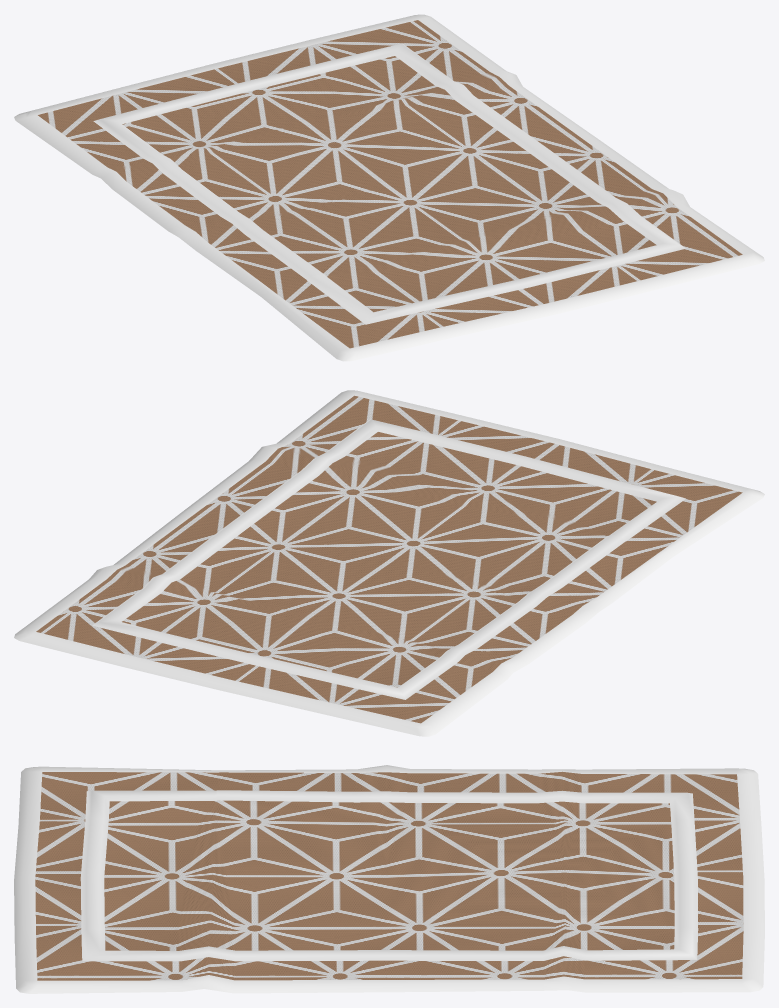
File: carpet_002.fbx
3 views of the same model, one above another, from view 1: azimuth 30°, elevation 25°; view 2: azimuth 150°, elevation 25°; view 3: azimuth 270°, elevation 25° (orthographic). The views are drawn at different scales.
Parts seen in each view (by area): view 1: carpet_002; view 2: carpet_002; view 3: carpet_002.
Boxes of the visible parts, x1=… form: carpet_002: x1=14, y1=14, x2=764, y2=361; carpet_002: x1=14, y1=390, x2=764, y2=736; carpet_002: x1=14, y1=765, x2=764, y2=993.
Bounding box in the file's own units: 264 × 369 × 6.16.
